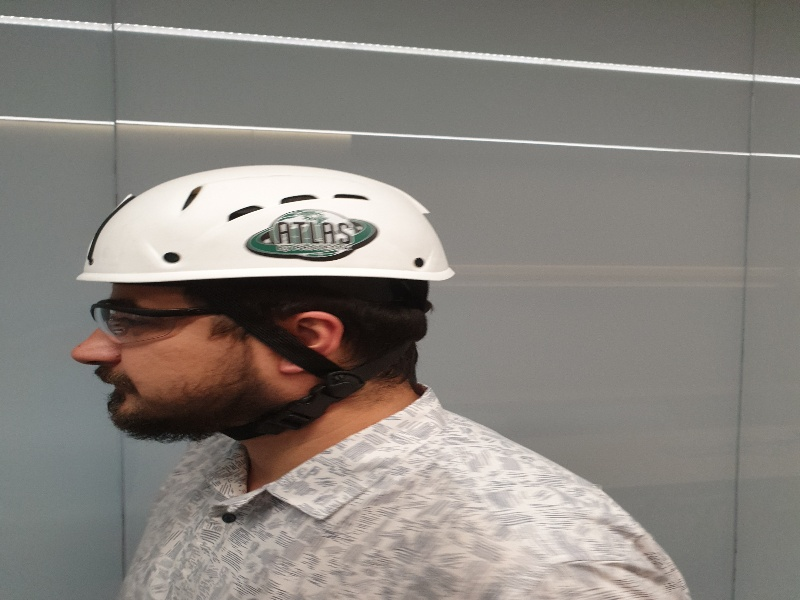Baret: (71, 166, 454, 280)
Gozluk: (87, 300, 234, 341)
